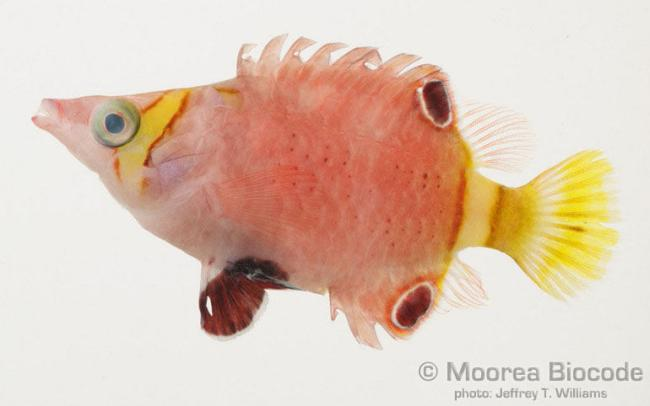fish: (31, 33, 621, 351)
